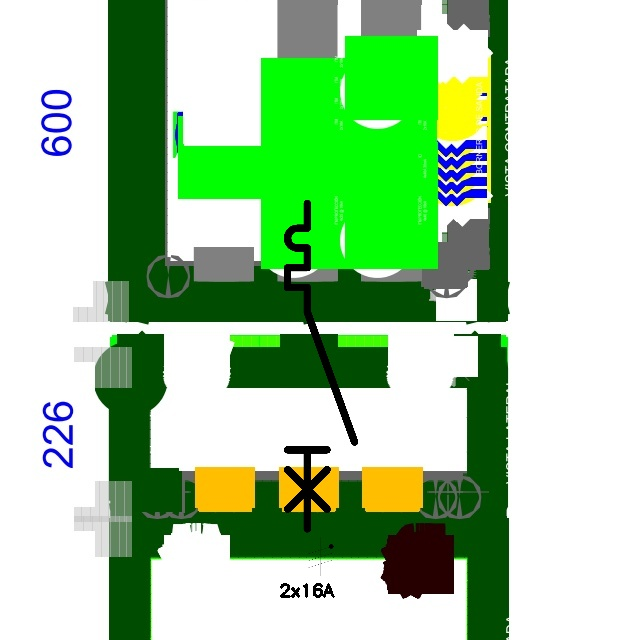interruptor_termomagnetico: (279, 195, 362, 537)
